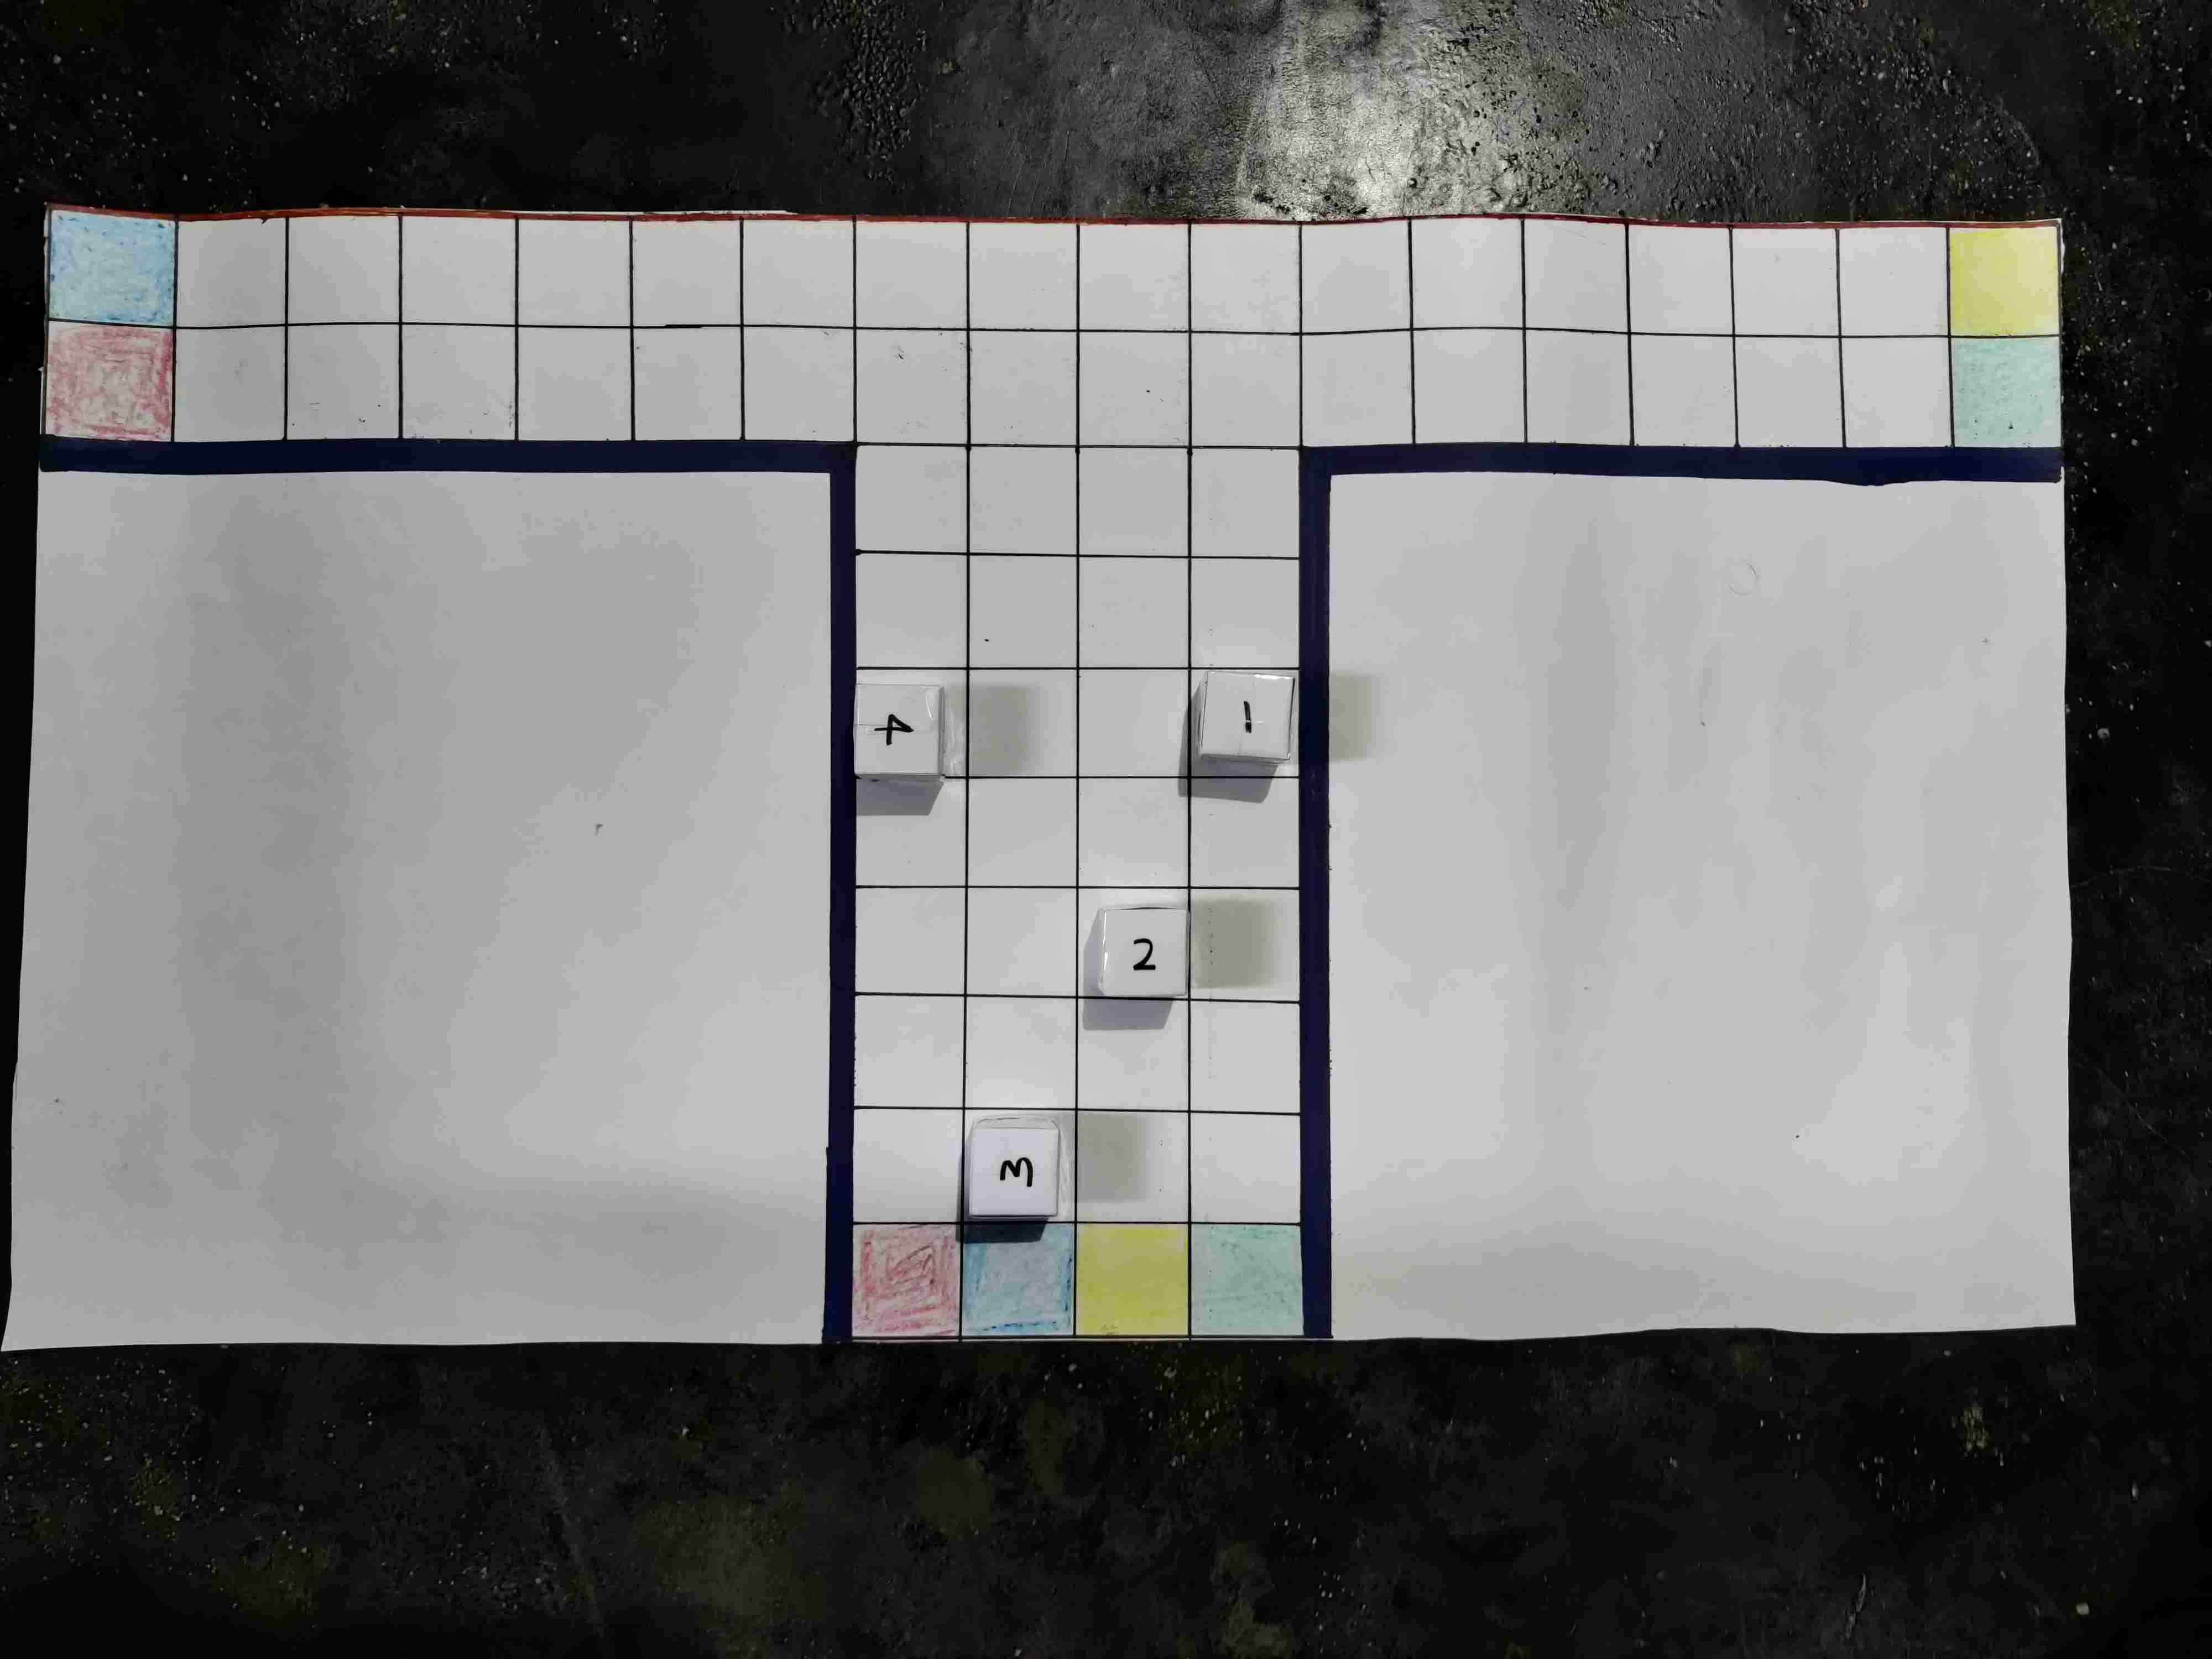arena: (75, 263, 2067, 1366)
bot: (1946, 1169, 2048, 1258), (1052, 934, 1143, 1025), (833, 352, 918, 441), (932, 490, 1021, 572)
